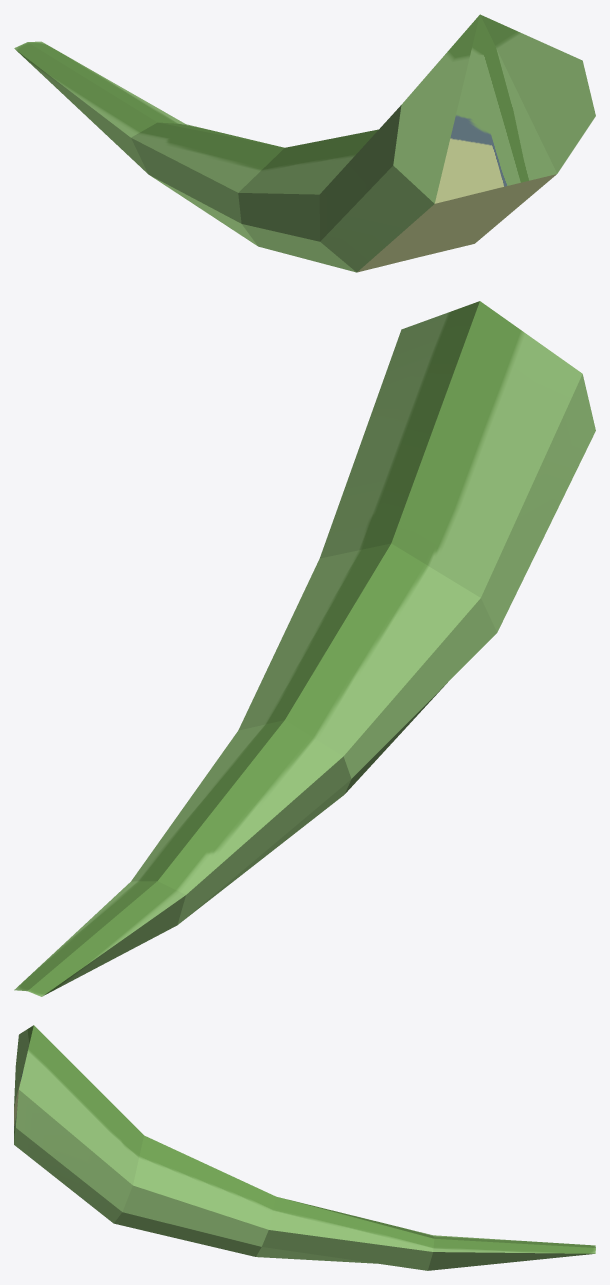
File: anole_tail.fbx
3 views of the same model, one above another, from view 1: azimuth 30°, elevation 25°; view 2: azimuth 150°, elevation 25°; view 3: azimuth 270°, elevation 25° (orthographic). The views are drawn at different scales.
Visible parts, largest first — view 1: anole_tail; view 2: anole_tail; view 3: anole_tail.
Boxes of the visible parts, <box> form: anole_tail: <box>14,14,595,272</box>; anole_tail: <box>14,301,595,996</box>; anole_tail: <box>14,1025,595,1270</box>.
Size of the model in its own units: 14.96 by 27.4 by 59.87.
